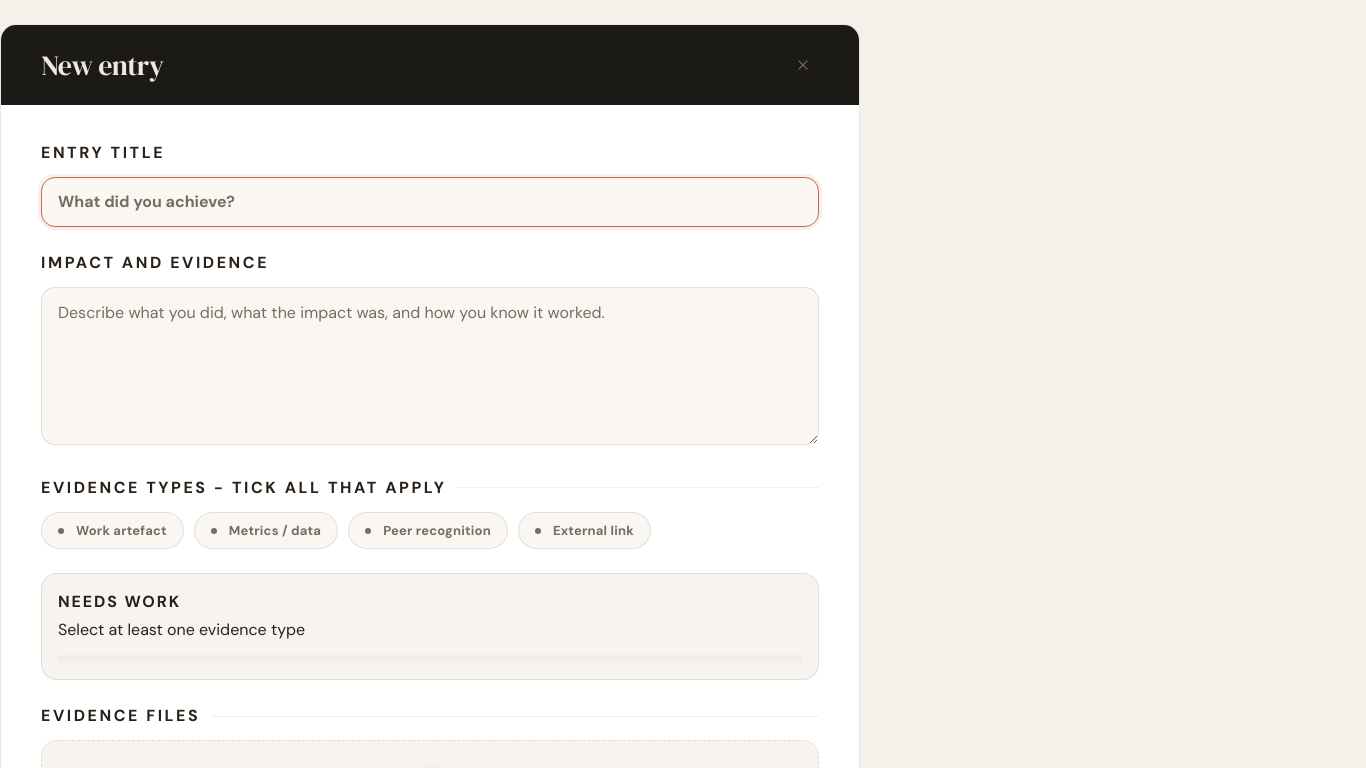
Test: EntryComposer › shows an error when the API save fails
In the field with placeholder "What did you achieve?": (430,202) [41,177,819,227], type "Won migration"
(page scrolled)
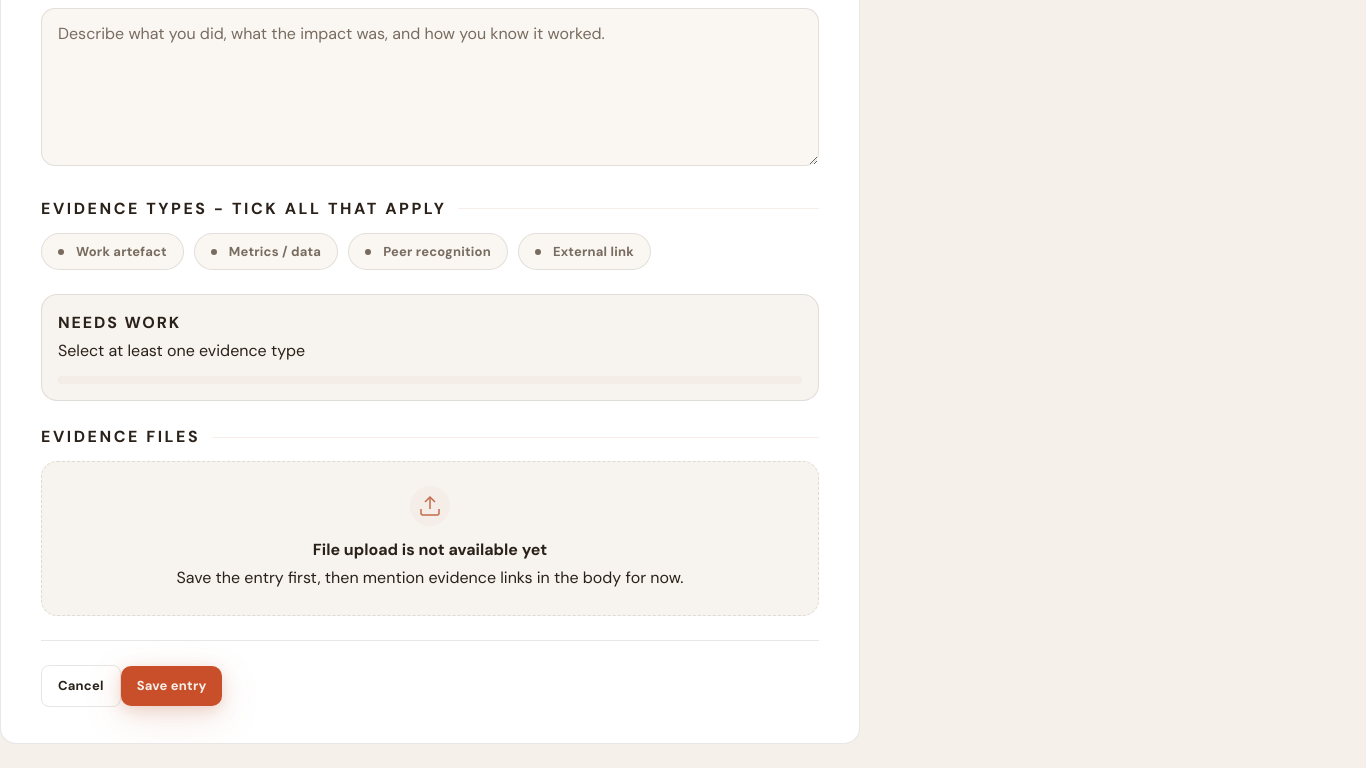
Click the button "Save entry": (172,686) [121,666,222,706]
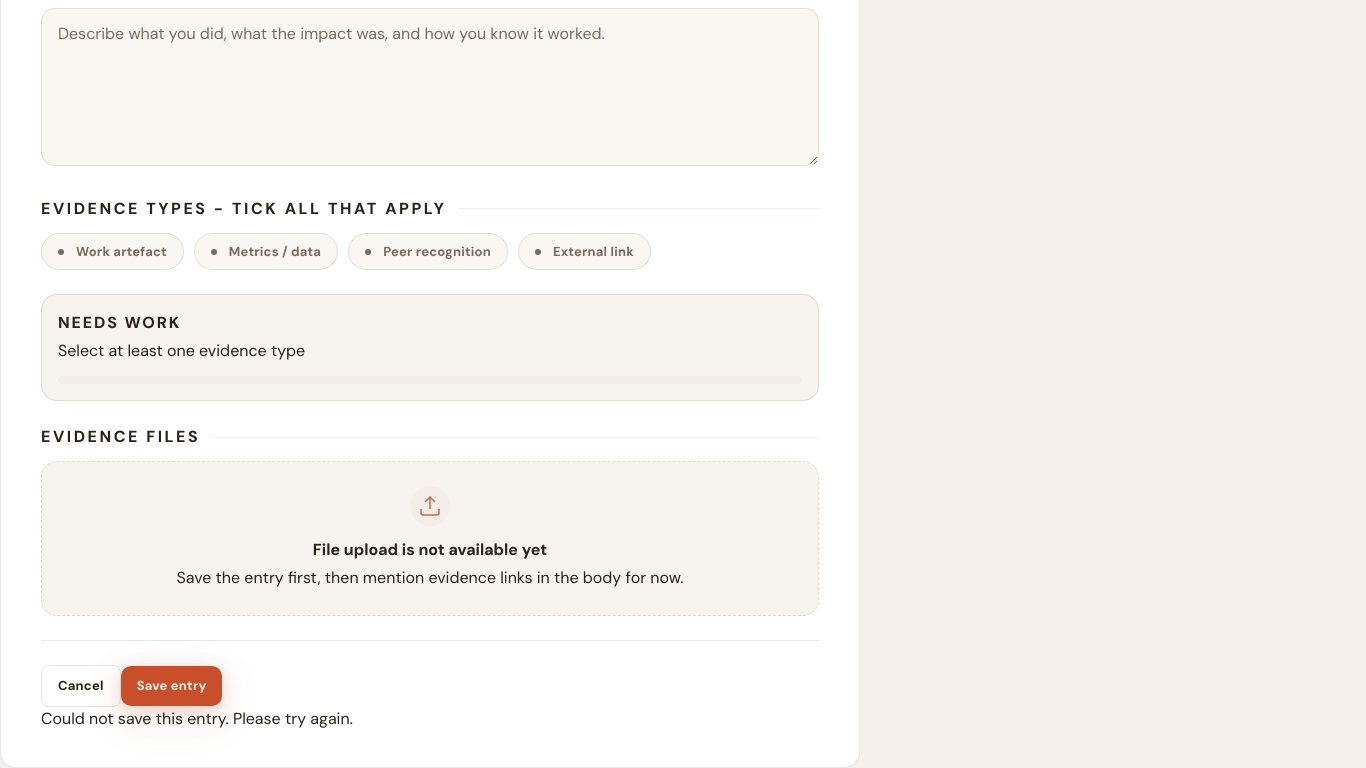
Expected: the message "Could not save this entry. Please try again." is shown, [41,708,353,728]
